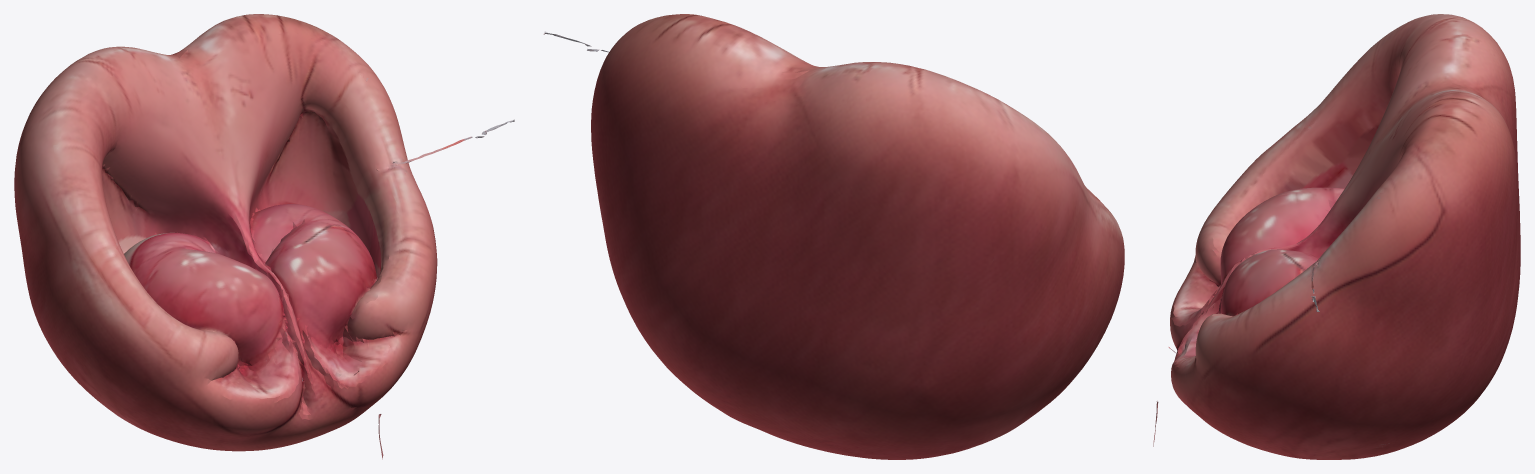
File: pyometra_uterus.glb
The picture shows the model from 3 angles, left to right: view 1: azimuth 30°, elevation 25°; view 2: azimuth 150°, elevation 25°; view 3: azimuth 270°, elevation 25°; orthographic projection. The views are drawn at different scales.
Parts seen in each view (by area): view 1: model; view 2: model; view 3: model.
Part boxes in pixels (<box>): model: <box>14,14,514,459</box>; model: <box>543,14,1124,459</box>; model: <box>1153,14,1520,459</box>.
Bounding box in the file's own units: 1.87 × 1.39 × 1.25.
1 material, 1 textured.
